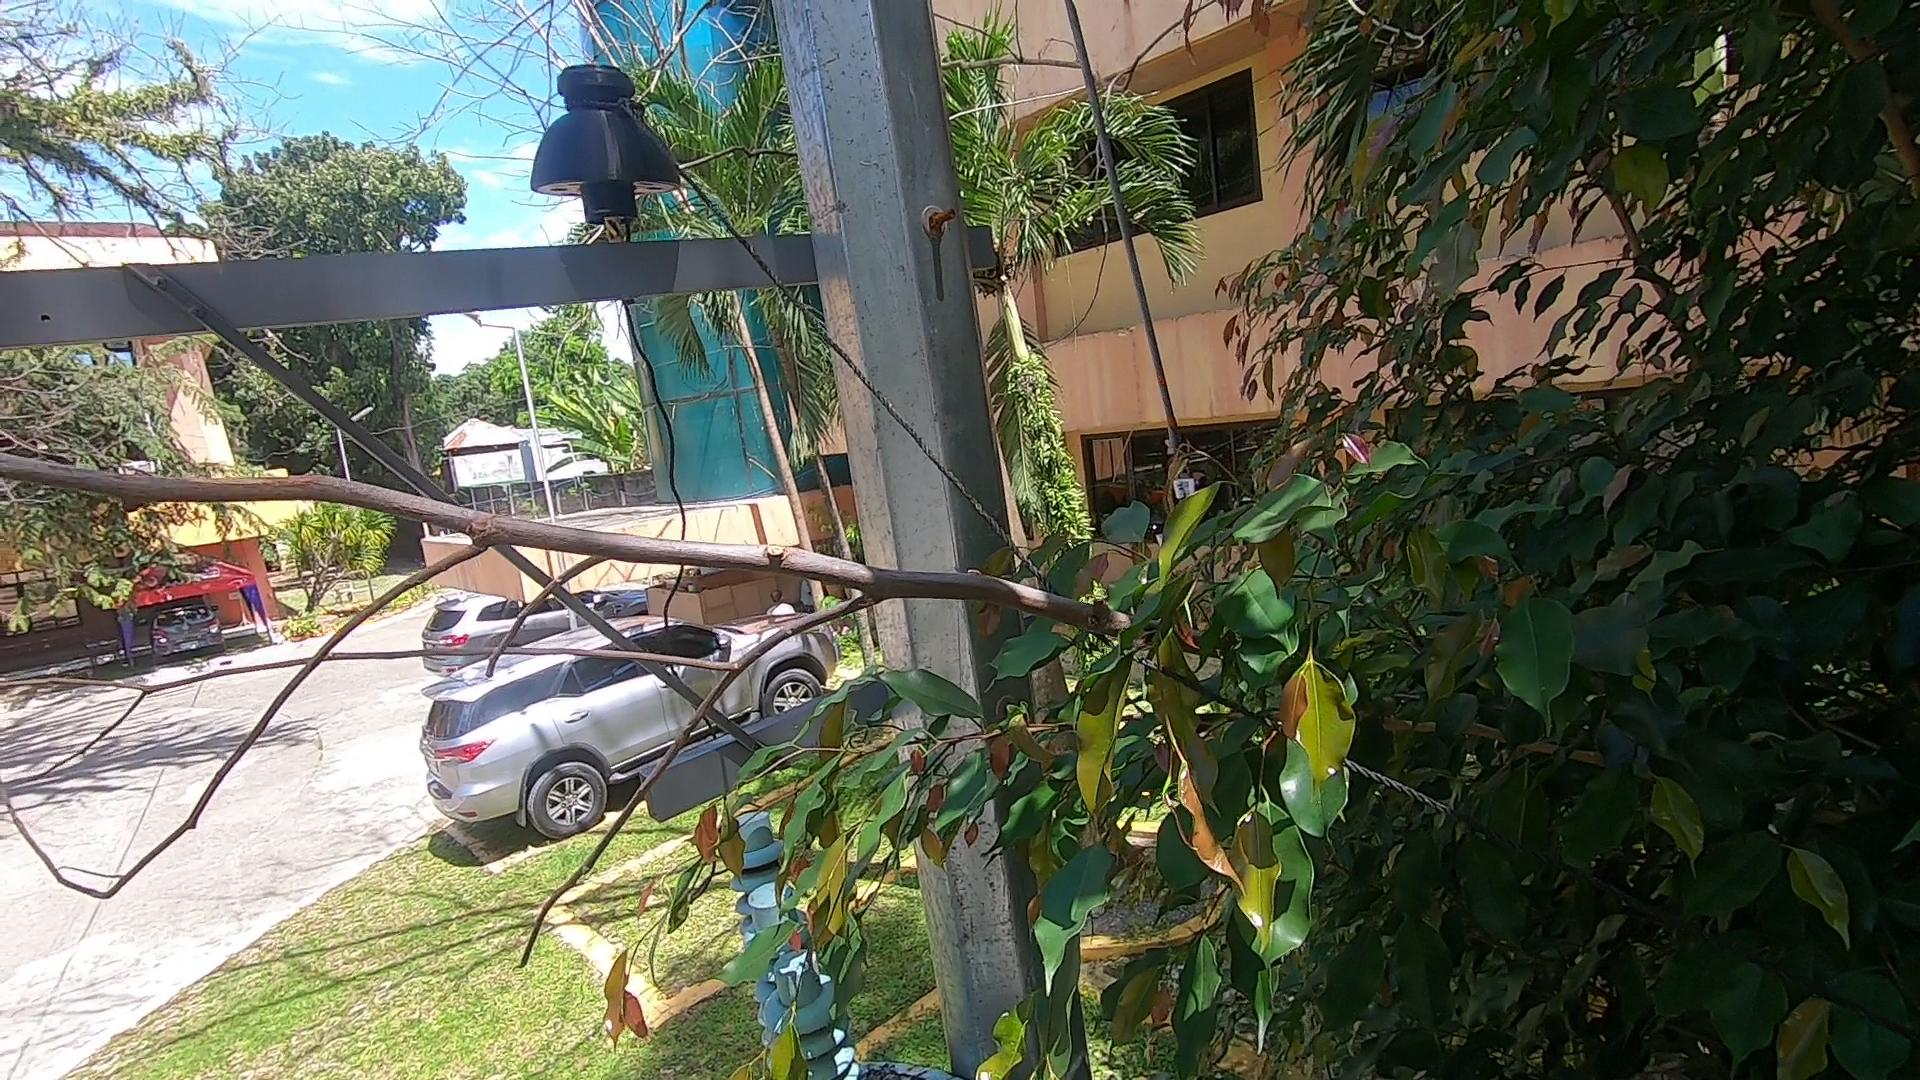tree branch: (1, 469, 1276, 1040)
